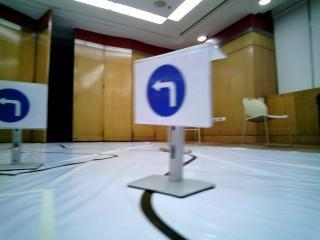left: (132, 59, 208, 123), (1, 85, 49, 133)
